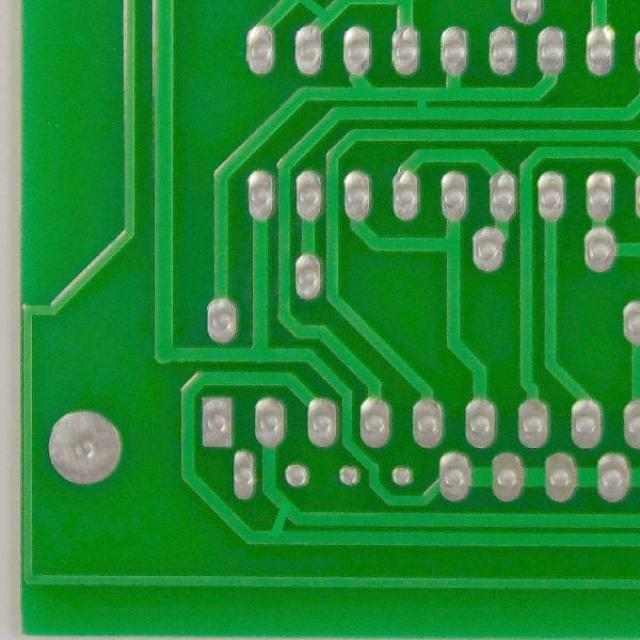Short_Circuit: (261, 497, 304, 552), (406, 83, 438, 124), (298, 0, 335, 25)
